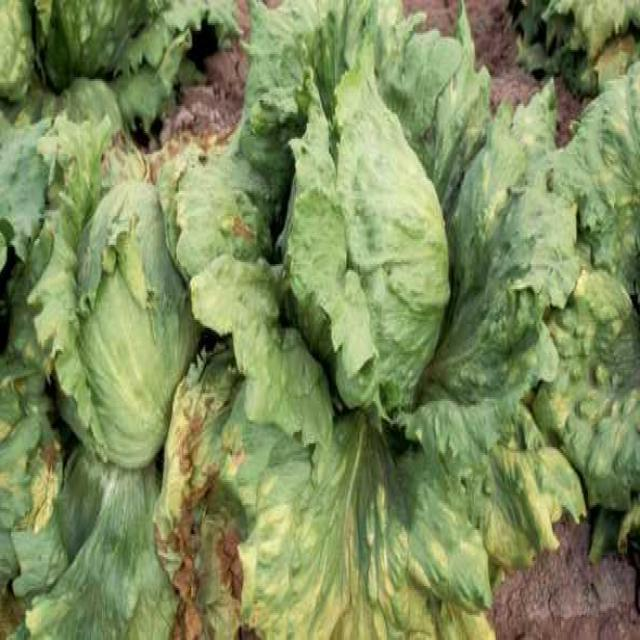Mature: (38, 187, 300, 636)
